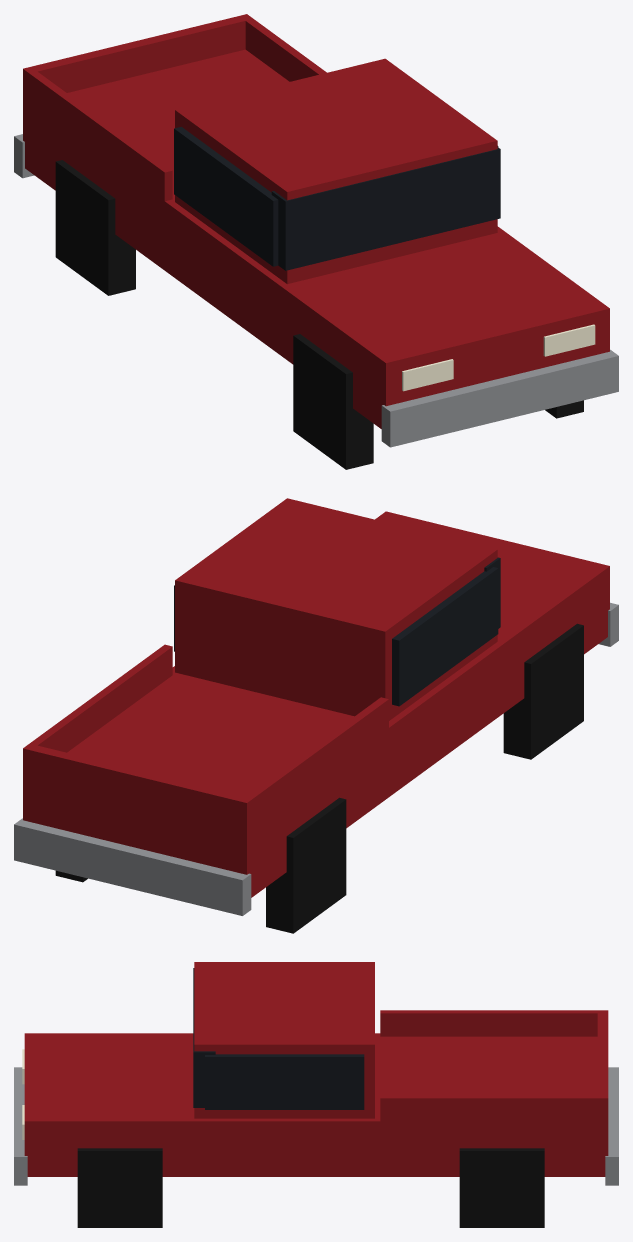
File: pickup_red.dae
3 renders of one model, top to bottom at view 1: azimuth 30°, elevation 25°; view 2: azimuth 150°, elevation 25°; view 3: azimuth 270°, elevation 25°, orthographic. The views are drawn at different scales.
Parts seen in each view (by area): view 1: marker; view 2: marker; view 3: marker.
Part boxes in pixels (x1,y1,x2,y2): marker: (14,14,618,469); marker: (14,498,618,933); marker: (14,962,618,1227).
Bounding box in the file's own units: 2.08 × 5.7 × 1.85.
